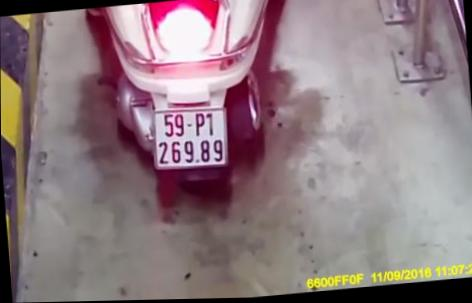LP: (149, 101, 230, 173)
